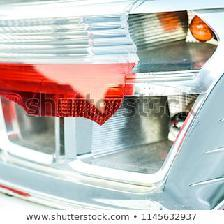broken_light: (116, 46, 152, 80)
